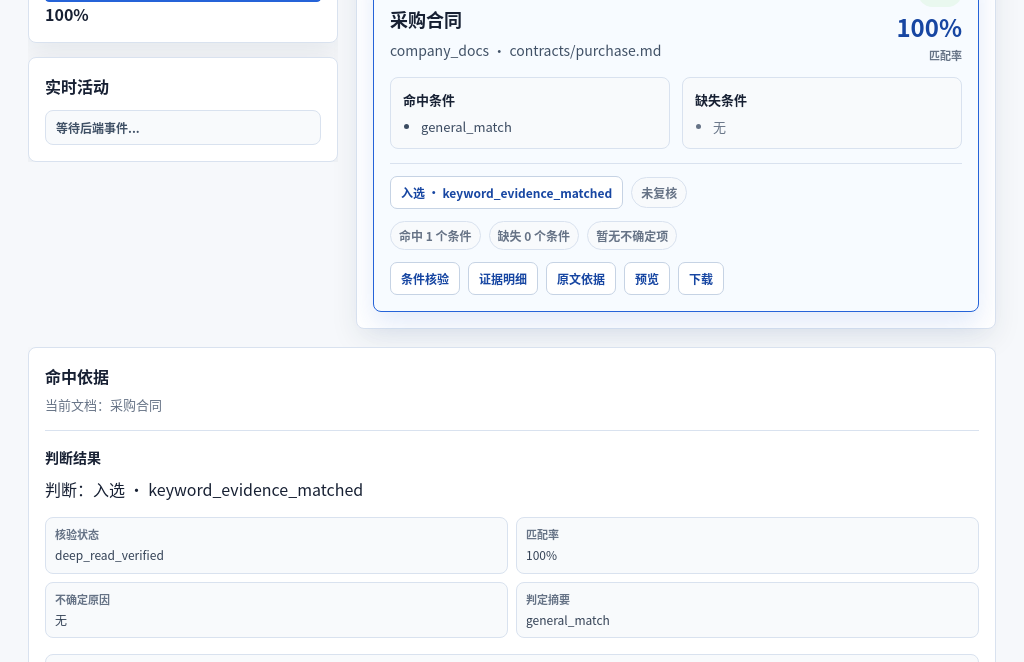
Test: TaskProgressPage › shows legacy ledger rows that only match through artifact refs
The width and height of the screenshot is (1024, 662).
(page scrolled)
Expected: the heading "采购合同" is shown, left=390, top=6, right=462, bottom=32
Click the button with aria-label "查看采购合同证据明细". click: (503,279)
box: left=468, top=262, right=538, bottom=296
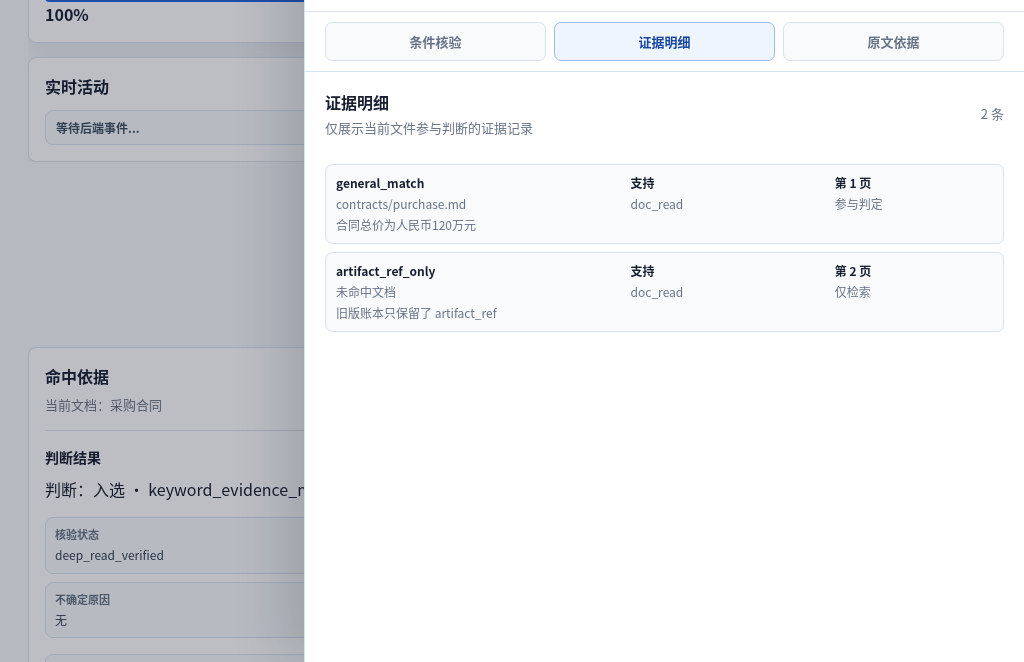
Result: the text "artifact_ref_only" is shown at left=336, top=262, right=436, bottom=279
